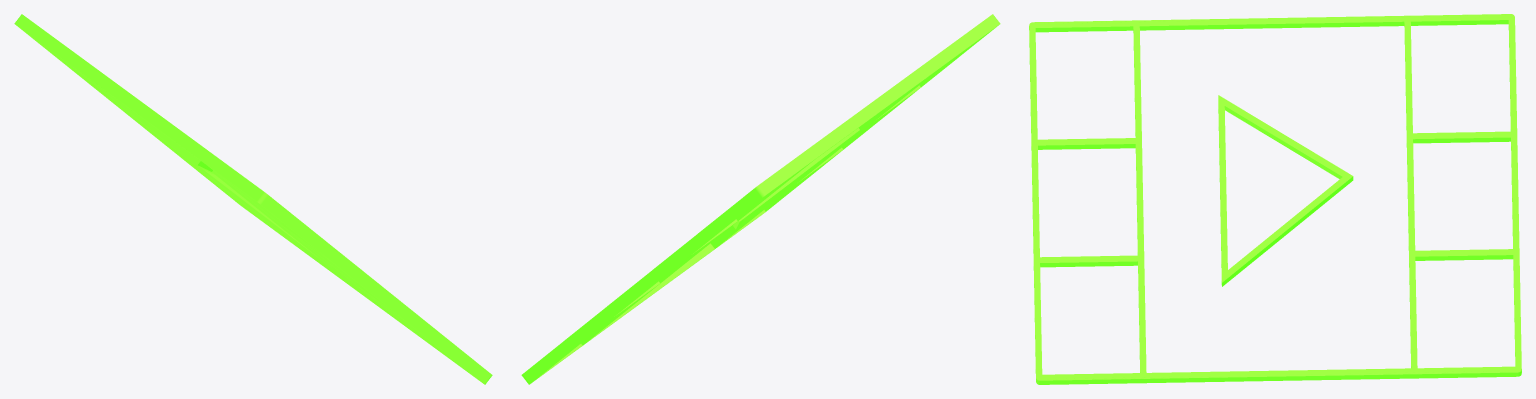
Rendered from podium_video_on.glb.
3 renders of one model, left to right at view 1: azimuth 30°, elevation 25°; view 2: azimuth 150°, elevation 25°; view 3: azimuth 270°, elevation 25°, orthographic.
Visible parts, largest first — view 1: Buttons.002; view 2: Buttons.002; view 3: Buttons.002.
Boxes of the visible parts, box(x1,y1,x2,y2) form: Buttons.002: box(14, 14, 492, 384); Buttons.002: box(521, 14, 1000, 384); Buttons.002: box(1029, 14, 1521, 384).
Size of the model in its own units: 0.0273 by 0.0273 by 0.0473.
